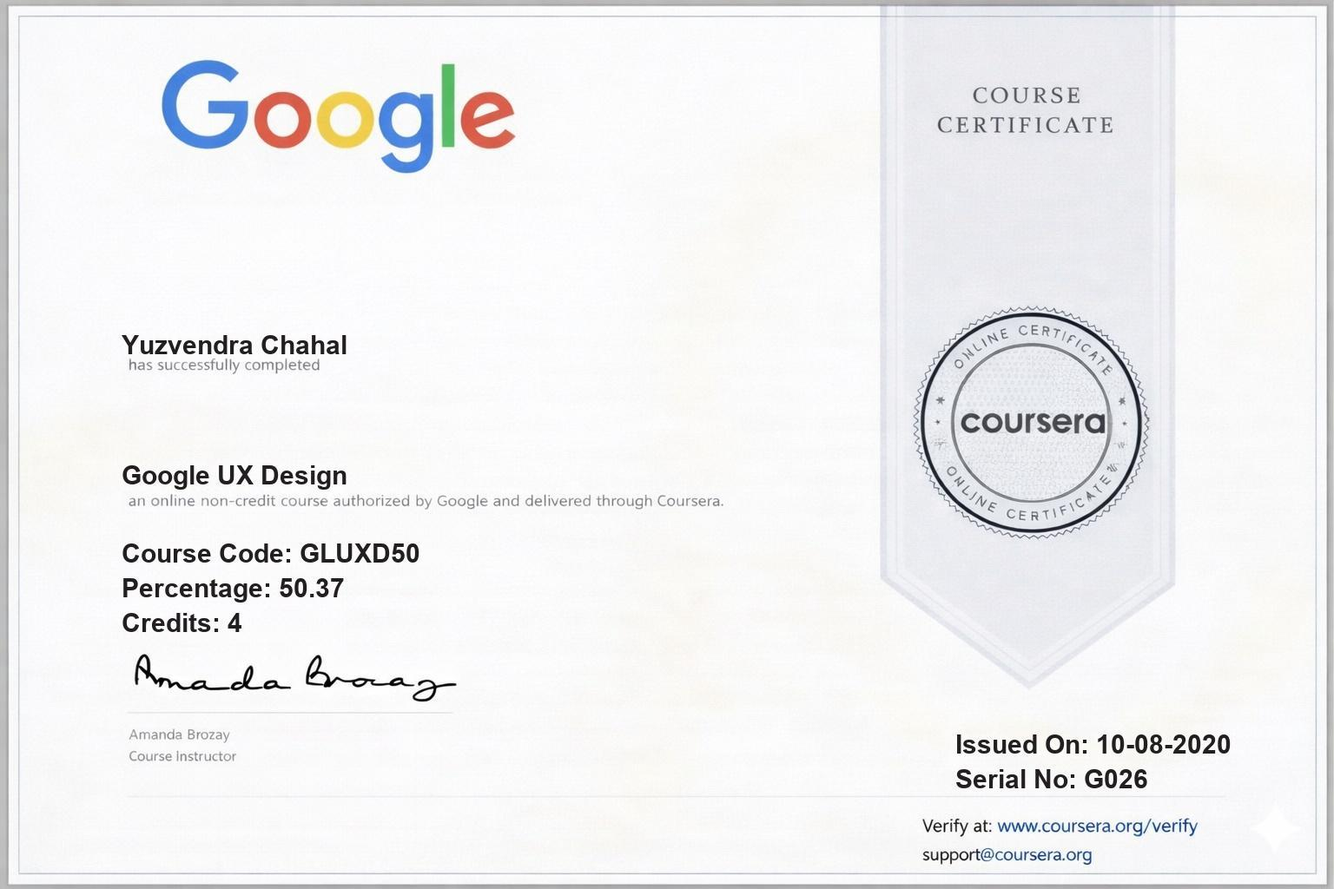Course Code: (295, 532, 430, 571)
Course Name: (111, 450, 352, 498)
Credits: (221, 605, 257, 645)
Issued On: (1093, 727, 1239, 763)
Percentage: (276, 569, 354, 605)
Serial No: (1078, 763, 1157, 799)
Student Name: (109, 325, 354, 361)
